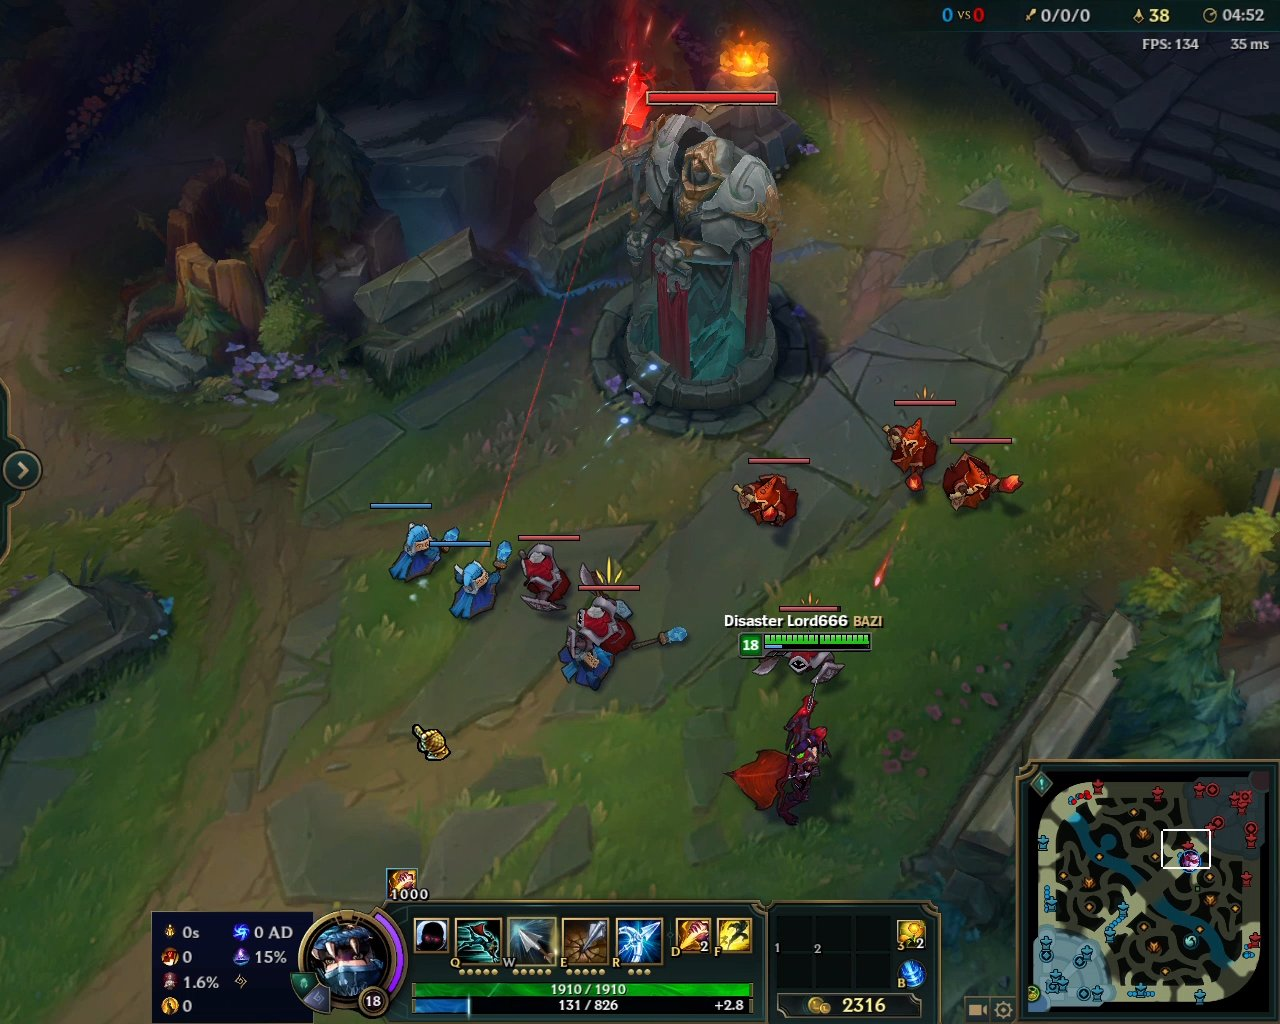EnemyMinion: (935, 430, 1023, 520), (562, 571, 650, 659), (882, 399, 953, 494), (513, 525, 584, 616), (730, 455, 809, 530)
Tower: (604, 51, 807, 416)
Vayne: (724, 681, 838, 830)
